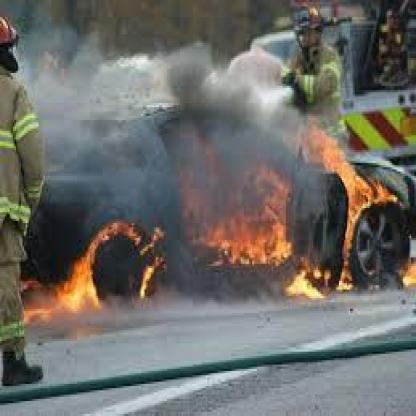fire: (15, 154, 412, 307)
smoke: (73, 32, 284, 148)
